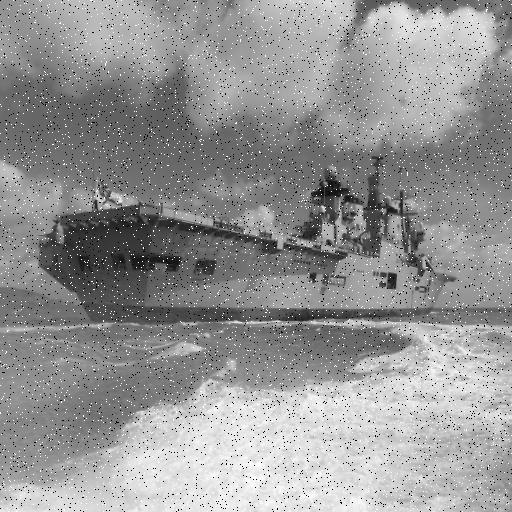Portanaves: (37, 139, 462, 330)
